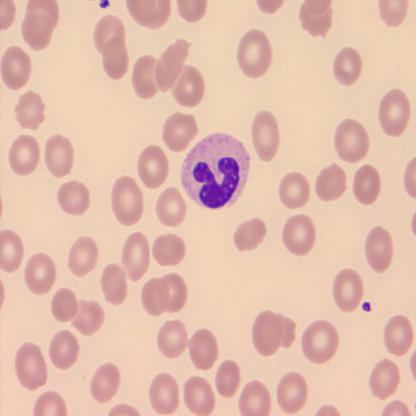Segmented neutrophil: (179, 130, 251, 211)
